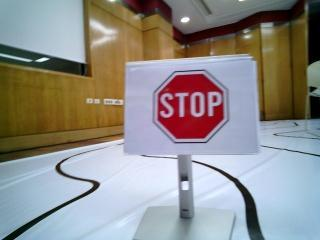stop: (134, 70, 252, 142)
